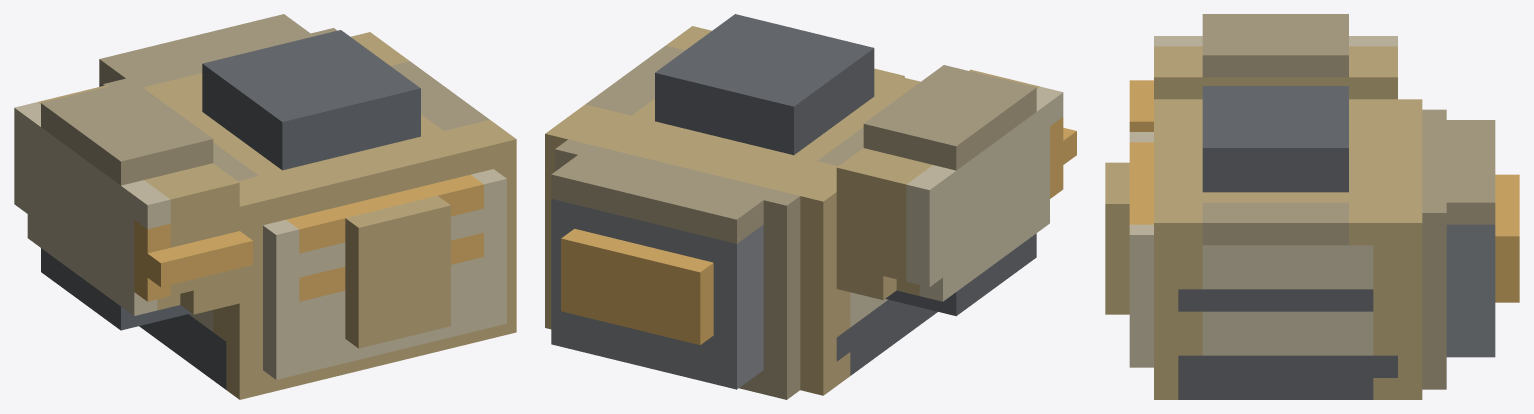
File: torso.glb
The picture shows the model from 3 angles, left to right: view 1: azimuth 30°, elevation 25°; view 2: azimuth 150°, elevation 25°; view 3: azimuth 270°, elevation 25°; orthographic projection. The views are drawn at different scales.
Bounding box in the file's own units: 16 × 10 × 17.
